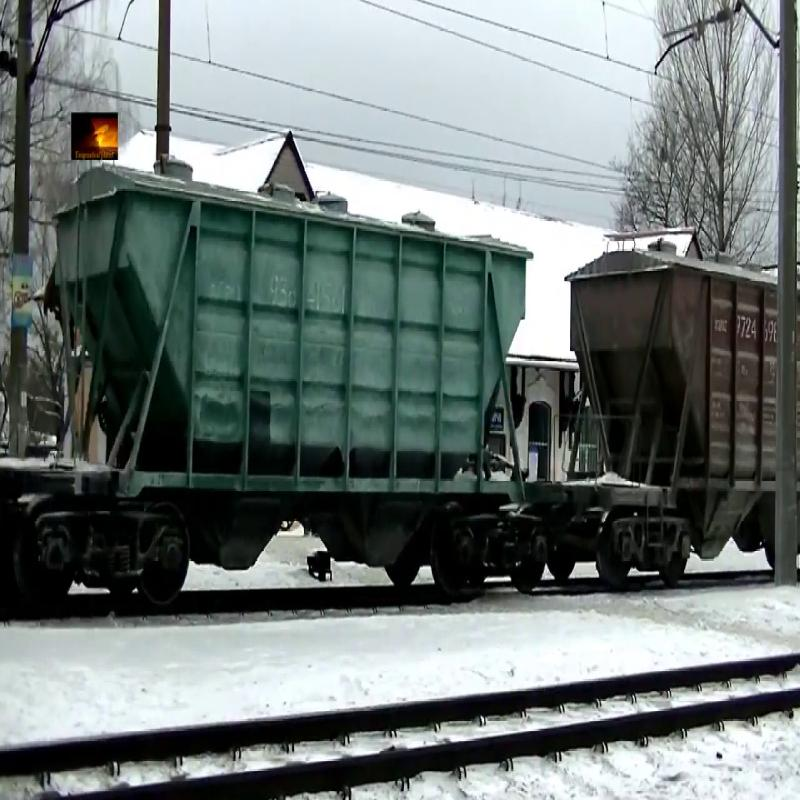train: (1, 176, 536, 609)
